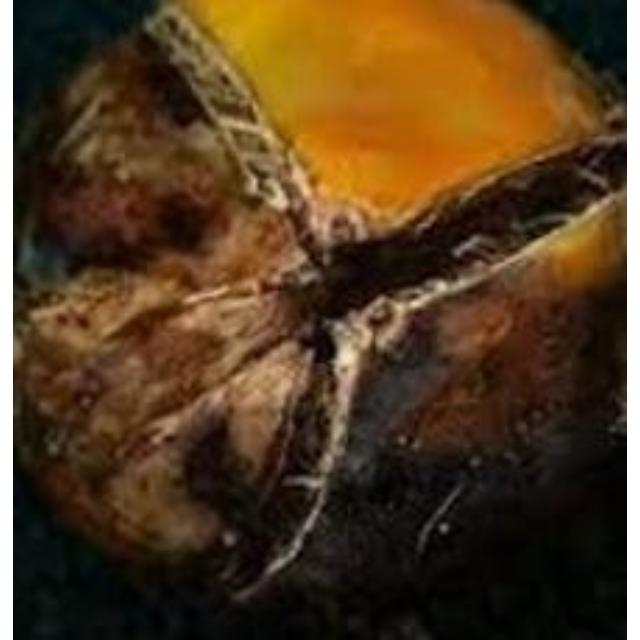damaged: (13, 0, 625, 604)
